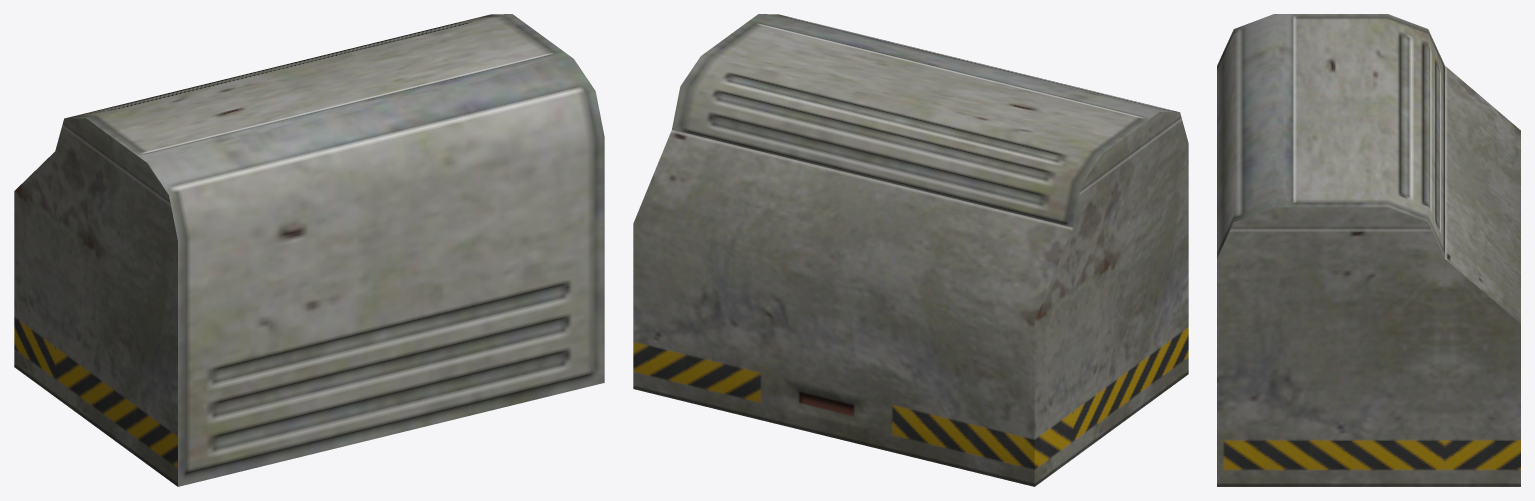
File: HoseReceiver.fbx
3 views of the same model, side by side, from view 1: azimuth 30°, elevation 25°; view 2: azimuth 150°, elevation 25°; view 3: azimuth 270°, elevation 25° (orthographic). The views are drawn at different scales.
Visible parts, largest first — view 1: pCube282; view 2: pCube282; view 3: pCube282.
Boxes of the visible parts, x1=… form: pCube282: x1=14, y1=14, x2=604, y2=486; pCube282: x1=633, y1=14, x2=1188, y2=486; pCube282: x1=1217, y1=14, x2=1520, y2=486.
Bounding box in the file's own units: 4.58 × 3.09 × 3.04.
1 material, 1 textured.
